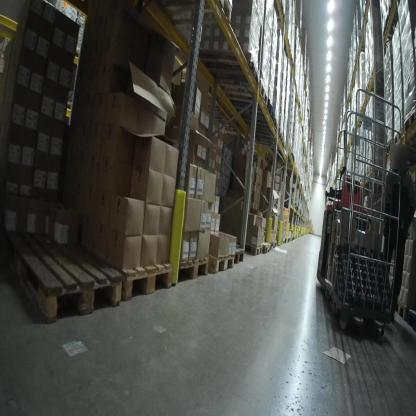pallets: (13, 244, 202, 341), (174, 247, 245, 284), (392, 300, 415, 346), (386, 112, 416, 146), (276, 232, 311, 248), (246, 241, 273, 256)
